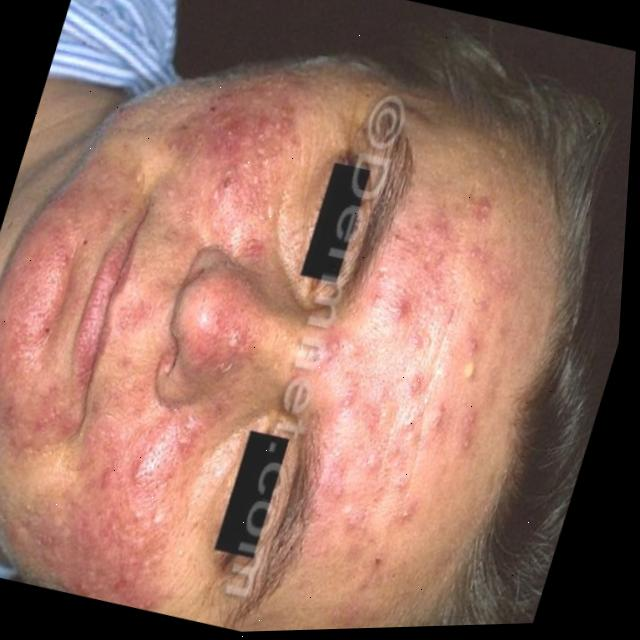Rosacea: (314, 235, 516, 551), (26, 405, 214, 617), (190, 81, 323, 237), (0, 203, 88, 415), (207, 271, 276, 371)
